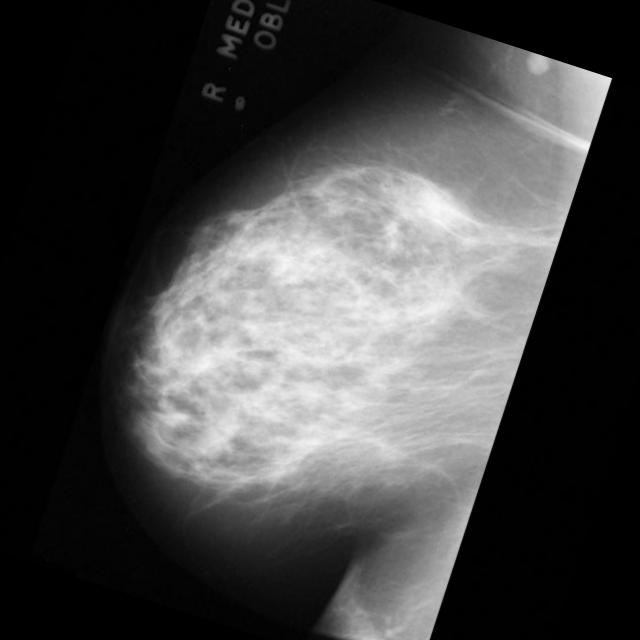MISC: (386, 155, 490, 260)
